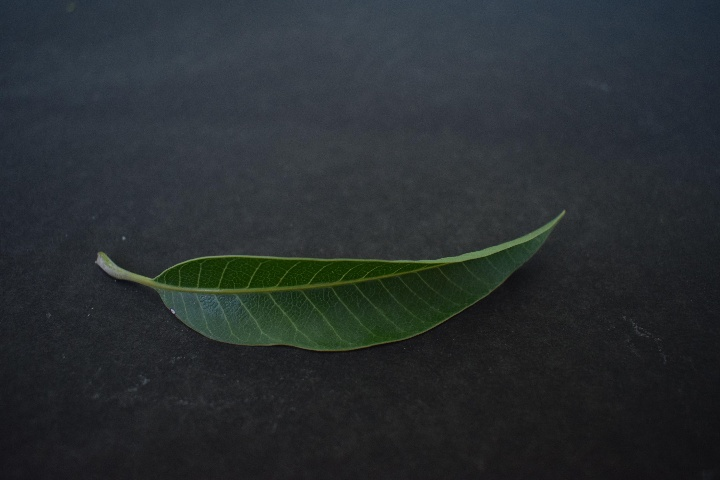healthy: (150, 206, 572, 347), (571, 326, 573, 328)
